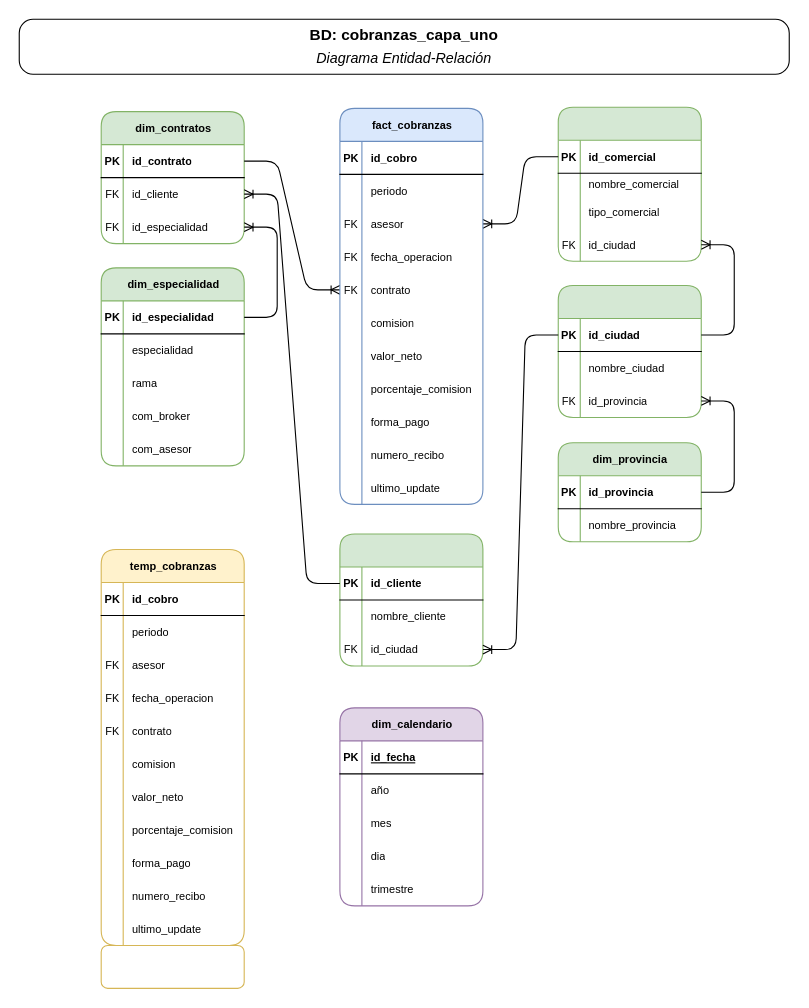
Image size: 809x1008. Some labels were removed from this diagram. The box of each missing label's shape, as (x1, y1, x2, y2) in pixels:
dim_ciudad: (557, 284, 701, 417)
dim_clientes: (339, 533, 483, 666)
dim_comercial: (557, 106, 701, 261)
Tabla para estacionar datos previo a ingesta en 'fact_cobranzas': (100, 944, 244, 988)
